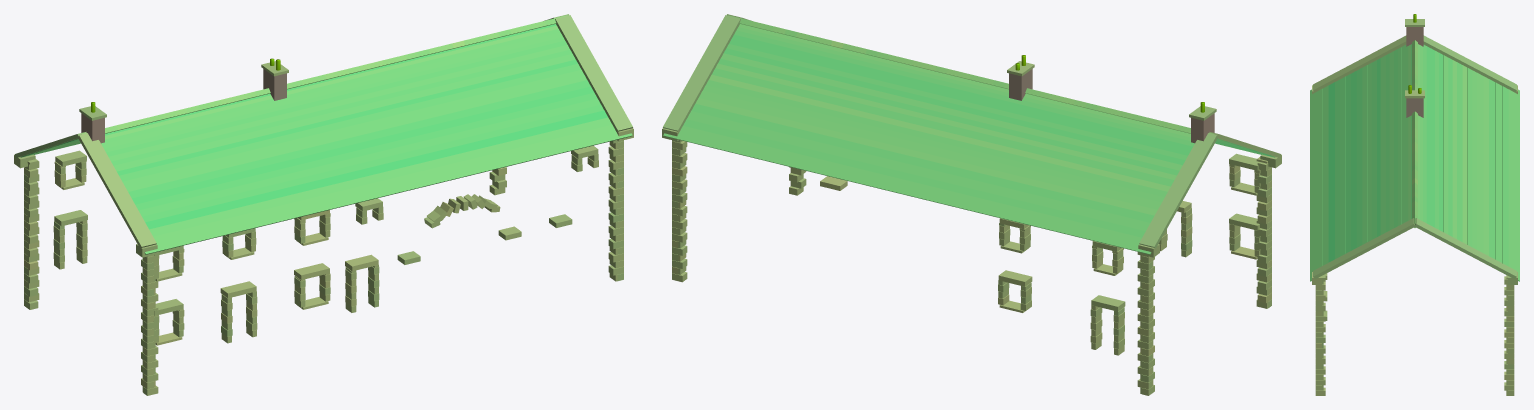
Rendered from SM_Bld_125_Stone.glb.
3 views of the same model, side by side, from view 1: azimuth 30°, elevation 25°; view 2: azimuth 150°, elevation 25°; view 3: azimuth 270°, elevation 25° (orthographic). The views are drawn at different scales.
Parts seen in each view (by area): view 1: SM_Bld_125_Stone; view 2: SM_Bld_125_Stone; view 3: SM_Bld_125_Stone.
Boxes of the visible parts, x1,y1,x2,y2 form: SM_Bld_125_Stone: [14, 14, 633, 395]; SM_Bld_125_Stone: [662, 14, 1281, 395]; SM_Bld_125_Stone: [1310, 14, 1519, 395].
Size of the model in its own units: 23.36 by 11.19 by 10.76.
